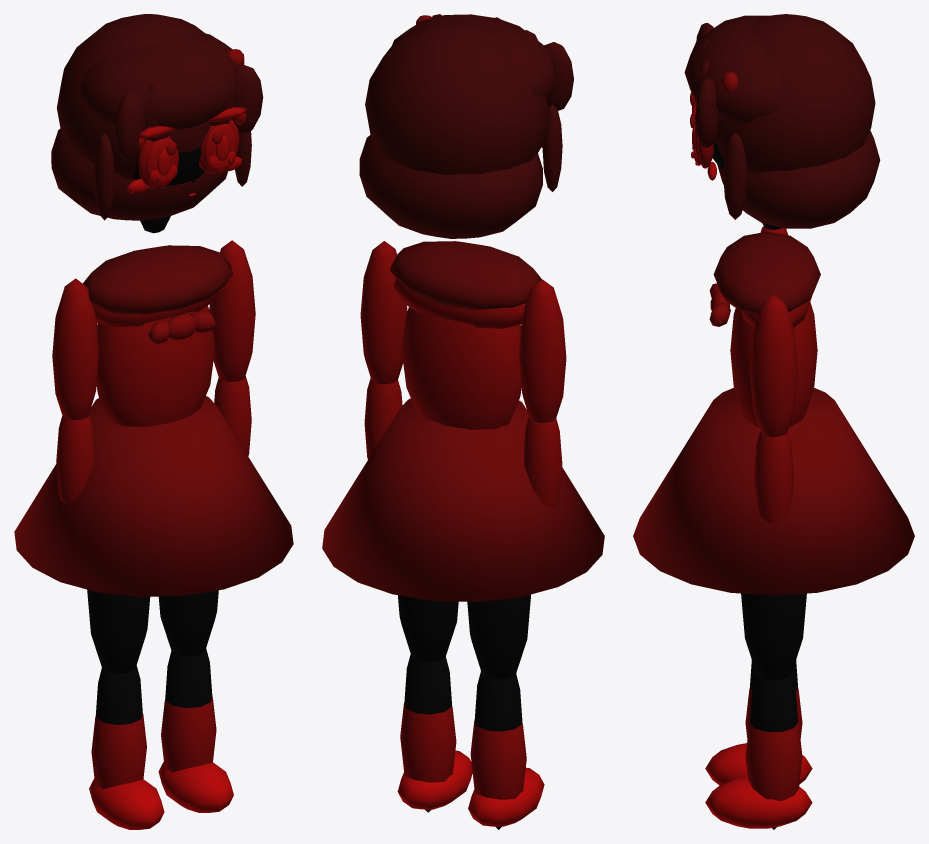
Rendered from girl_bob.glb.
The picture shows the model from 3 angles, left to right: view 1: azimuth 30°, elevation 25°; view 2: azimuth 150°, elevation 25°; view 3: azimuth 270°, elevation 25°; orthographic projection.
Parts seen in each view (by area): view 1: body, legl, legr, arml, armr; view 2: body, legl, legr, arml, armr; view 3: body, legr, armr, legl.
Part boxes in pixels (x1,y1,x2,y2): body: [14, 14, 293, 596]; legl: [87, 589, 164, 829]; legr: [158, 590, 233, 812]; arml: [52, 278, 99, 504]; armr: [209, 240, 255, 456]; body: [322, 14, 604, 601]; legl: [467, 594, 544, 829]; legr: [397, 595, 472, 812]; arml: [519, 279, 566, 508]; armr: [360, 241, 407, 459]; body: [633, 14, 914, 595]; legr: [705, 593, 812, 829]; armr: [750, 295, 797, 522]; legl: [705, 660, 812, 785].
Size of the model in its own units: 0.84 by 2.6 by 0.84.
